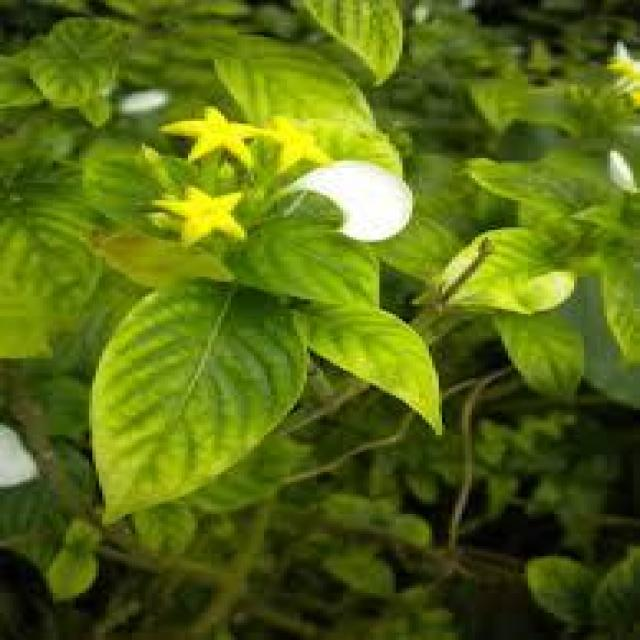organic waste: (94, 76, 450, 267)
